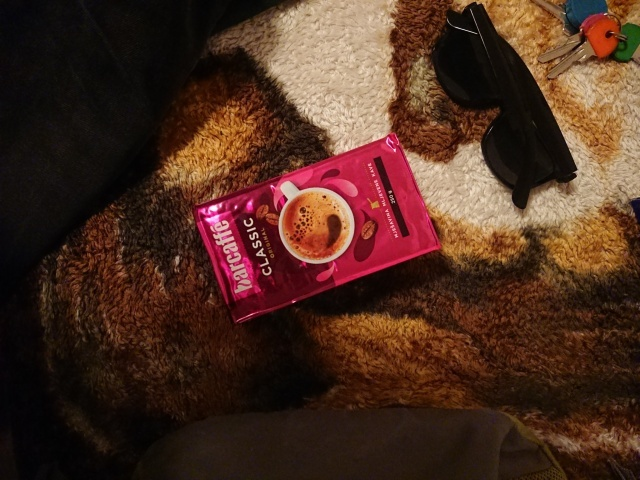Barcaffe Classic Original 225g: (189, 128, 444, 327)
